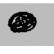correct: (6, 9, 38, 34)
